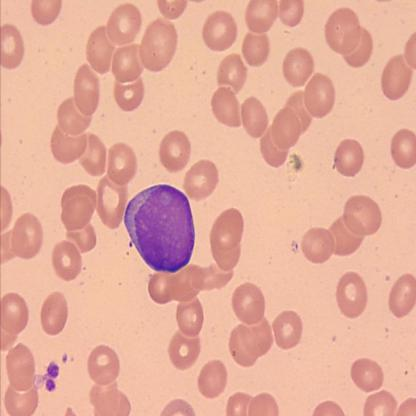Blast: (122, 183, 197, 276)
